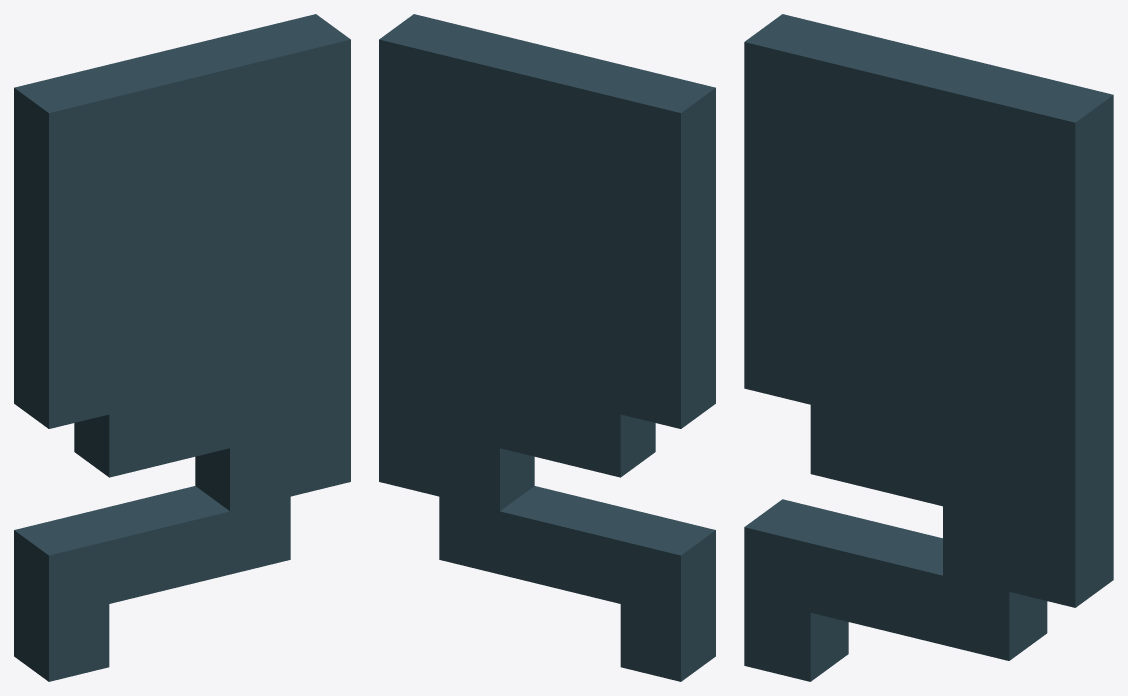
File: enemyleg.obj
3 views of the same model, side by side, from view 1: azimuth 30°, elevation 25°; view 2: azimuth 150°, elevation 25°; view 3: azimuth 330°, elevation 25° (orthographic). The views are drawn at different scales.
Size of the model in its own units: 5 by 9 by 1.
1 material, 1 textured.
